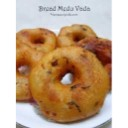vada: (34, 49, 107, 118), (15, 41, 41, 99), (16, 29, 58, 52), (58, 22, 98, 46)
